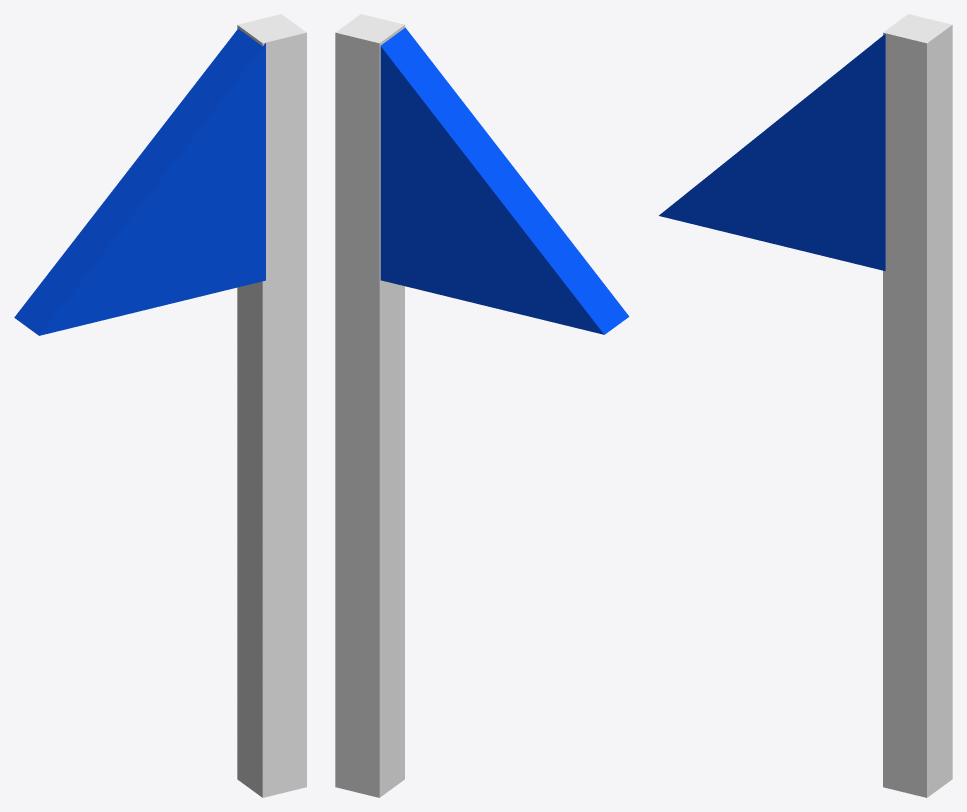
File: bluehata.fbx
3 views of the same model, side by side, from view 1: azimuth 30°, elevation 25°; view 2: azimuth 150°, elevation 25°; view 3: azimuth 330°, elevation 25° (orthographic).
Visible parts, largest first — view 1: Cube, 立方体; view 2: Cube, 立方体; view 3: Cube, 立方体.
Part boxes in pixels (box(x1,y1,x2,y2)): Cube: box(237, 14, 306, 797); 立方体: box(14, 28, 265, 335); Cube: box(335, 14, 404, 797); 立方体: box(380, 27, 629, 334); Cube: box(883, 14, 952, 797); 立方体: box(659, 34, 885, 270).
Size of the model in its own units: 7.44 by 20 by 1.24.
2 materials, 2 textured.
